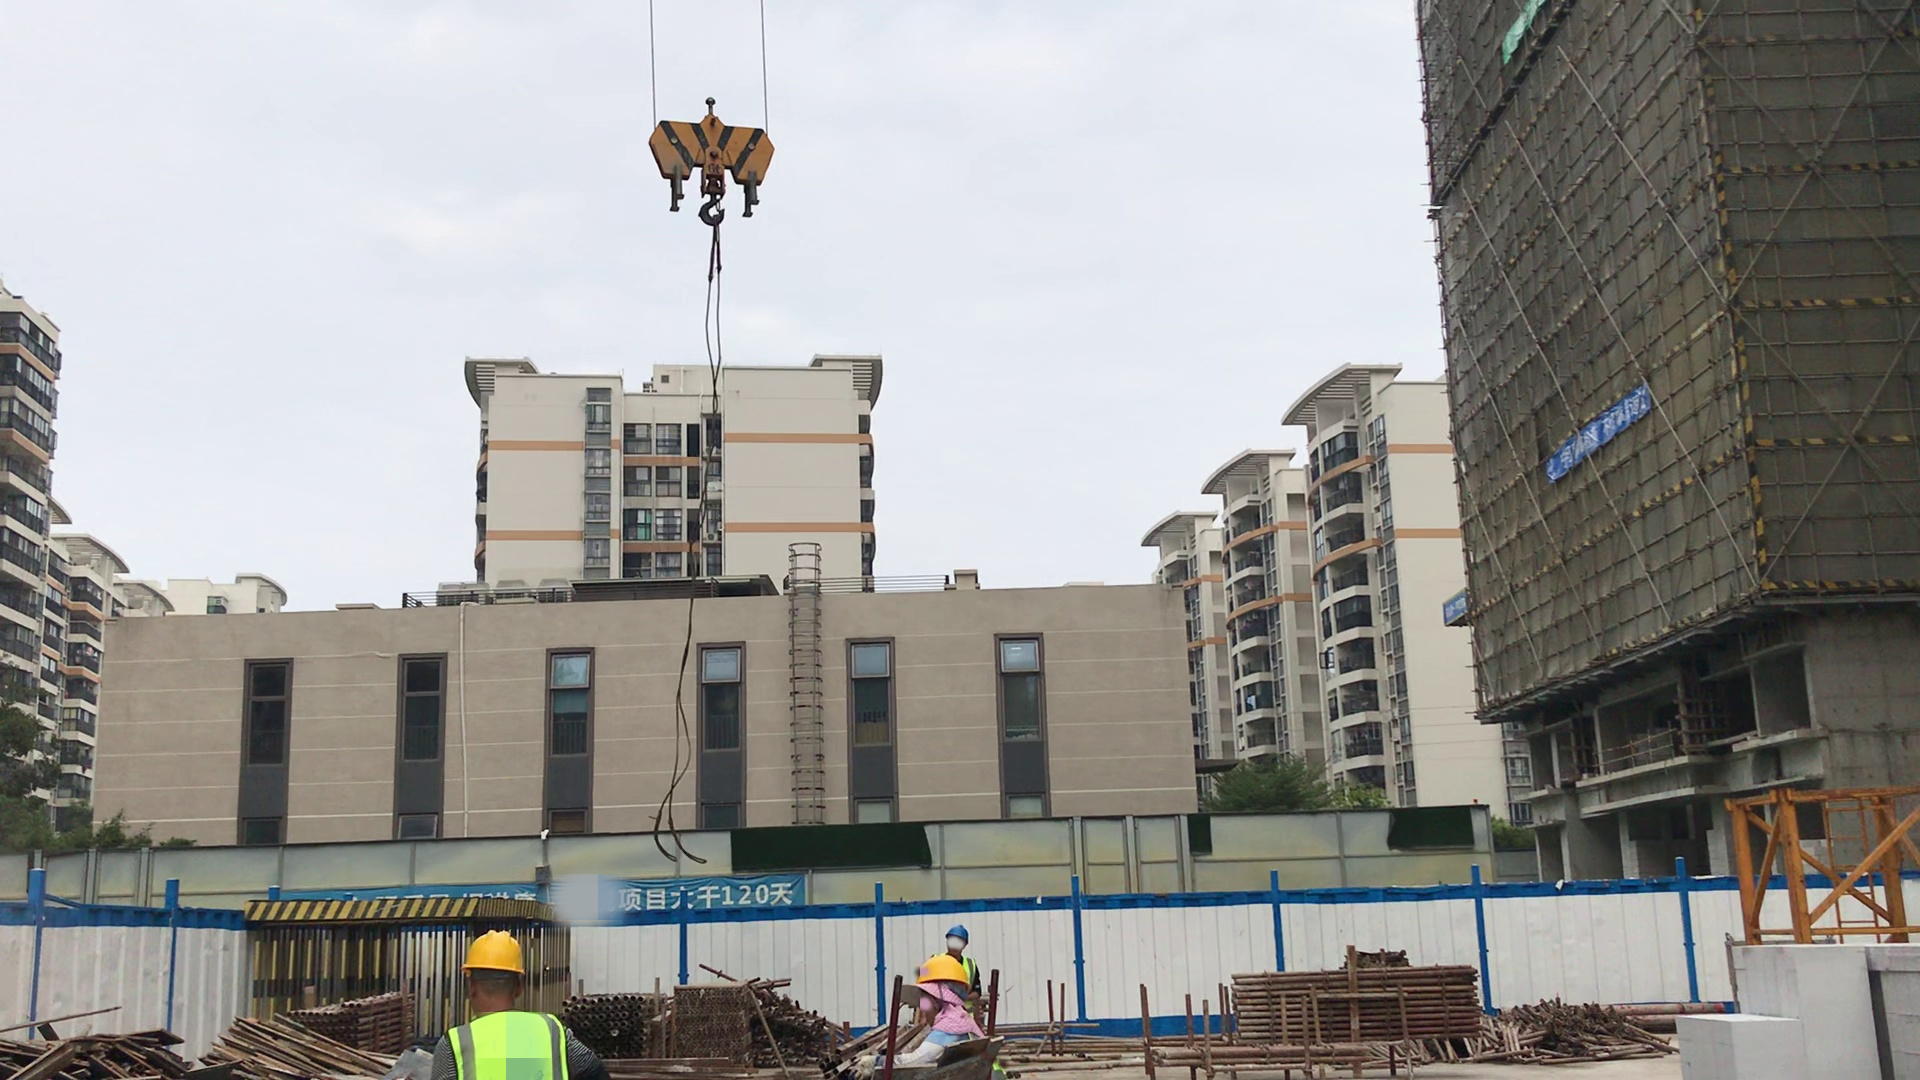brick: (1676, 916, 1920, 1073)
helmet: (455, 926, 535, 981), (913, 952, 997, 997), (941, 921, 985, 943)
hook: (642, 90, 774, 228)
person: (395, 911, 582, 1080), (893, 959, 989, 1074), (915, 916, 1010, 1003)
scaffold: (1226, 958, 1482, 1043), (561, 983, 652, 1064)
slogan: (576, 884, 812, 922)
vest: (437, 1004, 565, 1080)
